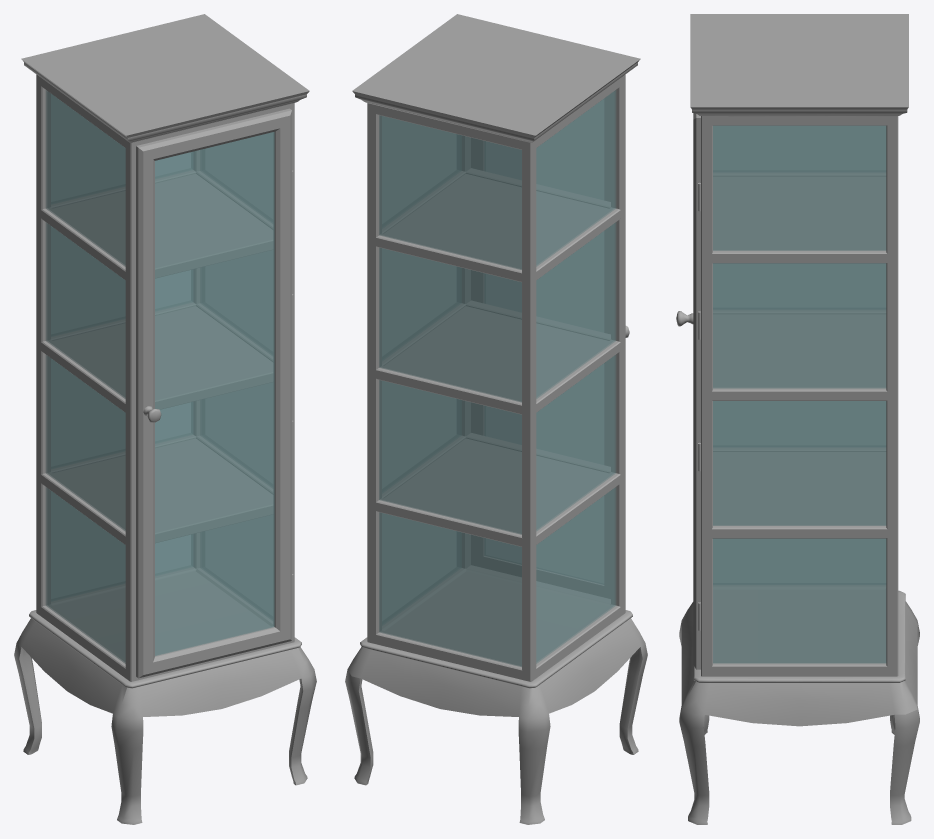
File: Cupboard_05.fbx
3 renders of one model, left to right at view 1: azimuth 30°, elevation 25°; view 2: azimuth 150°, elevation 25°; view 3: azimuth 270°, elevation 25°, orthographic. The views are drawn at different scales.
Parts seen in each view (by area): view 1: Cupboard_05, Cupboard_05_Glass; view 2: Cupboard_05, Cupboard_05_Glass; view 3: Cupboard_05, Cupboard_05_Glass.
Boxes of the visible parts, x1=… form: Cupboard_05: x1=14, y1=14, x2=316, y2=824; Cupboard_05_Glass: x1=45, y1=90, x2=274, y2=663; Cupboard_05: x1=345, y1=14, x2=647, y2=824; Cupboard_05_Glass: x1=379, y1=90, x2=616, y2=666; Cupboard_05: x1=676, y1=14, x2=919, y2=824; Cupboard_05_Glass: x1=713, y1=125, x2=886, y2=663.
Bounding box in the file's own units: 60.99 × 201 × 61.82.
